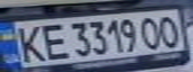1: (106, 17, 124, 53)
3: (66, 19, 90, 57), (87, 18, 109, 56)
9: (118, 16, 142, 52)
E: (33, 20, 72, 61)
K: (9, 22, 51, 64)
O: (154, 12, 187, 47), (136, 15, 166, 49)
